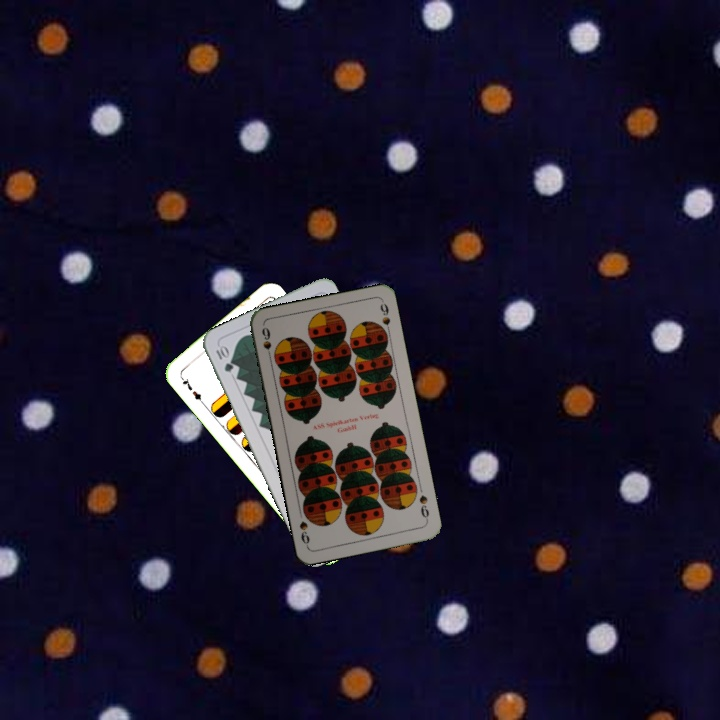E7: (176, 372, 206, 406)
G10: (212, 341, 236, 375)
S9: (258, 323, 274, 363), (415, 491, 431, 524)
